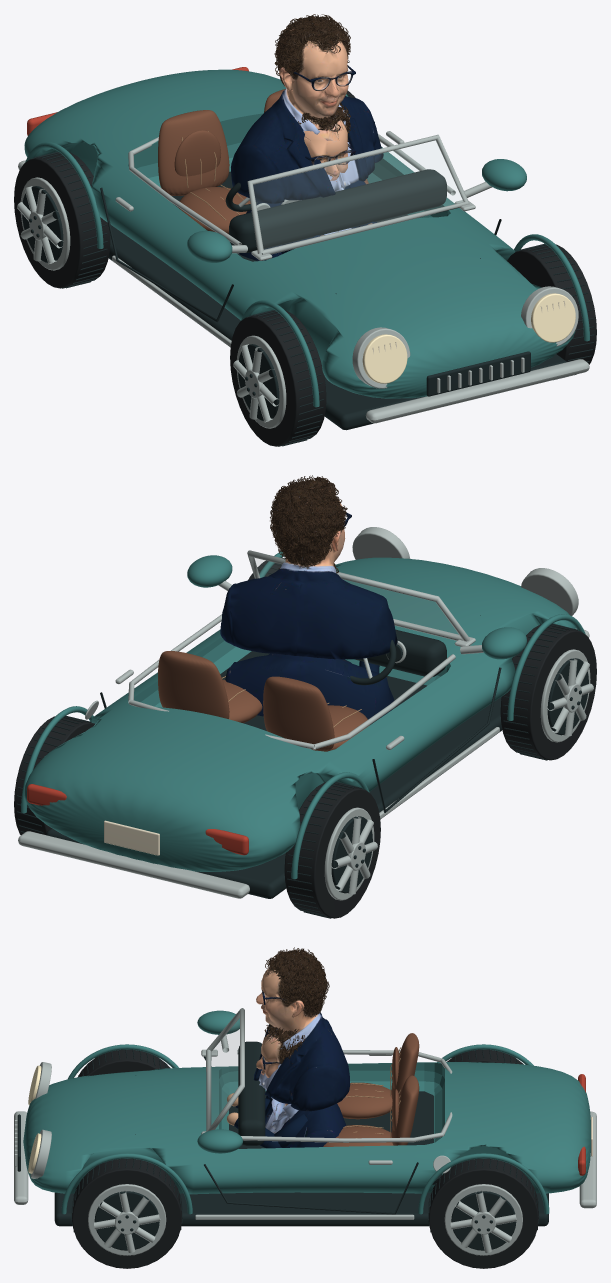
Rendered from dario-trial-kit.glb.
3 views of the same model, one above another, from view 1: azimuth 30°, elevation 25°; view 2: azimuth 150°, elevation 25°; view 3: azimuth 270°, elevation 25° (orthographic). The views are drawn at different scales.
Visible parts, largest first — view 1: Vehicle / Coupe paint, Vehicle / Charcoal, dario / portrait sculpture, Windscreen, Vehicle / Satin aluminium, Vehicle / Saddle leather, Road tire.001, Road tire, Vehicle / Warm headlight, Road tire.003, dario / driving sculpture, Wheel_FL / Satin aluminium (+4 smaller); view 2: Vehicle / Coupe paint, dario / portrait sculpture, Vehicle / Satin aluminium, Vehicle / Saddle leather, Vehicle / Charcoal, Road tire, Road tire.001, dario / driving sculpture, Wheel_RL / Satin aluminium, Wheel_FL / Satin aluminium, Road tire.002, Windscreen (+4 smaller); view 3: Vehicle / Coupe paint, Vehicle / Charcoal, dario / portrait sculpture, Vehicle / Satin aluminium, Road tire.003, Road tire.002, Vehicle / Saddle leather, dario / driving sculpture, Wheel_FR / Satin aluminium, Wheel_RR / Satin aluminium, Windscreen, Wheel_FR / Charcoal (+5 smaller).
Boxes of the visible parts, <box> form: Vehicle / Coupe paint: <box>24,69,589,407</box>; Vehicle / Charcoal: <box>100,121,566,430</box>; dario / portrait sculpture: <box>231,14,383,203</box>; Windscreen: <box>254,141,463,248</box>; Vehicle / Satin aluminium: <box>18,131,589,423</box>; Vehicle / Saddle leather: <box>158,89,368,234</box>; Road tire.001: <box>230,310,326,446</box>; Road tire: <box>14,152,110,288</box>; Vehicle / Warm headlight: <box>362,293,575,383</box>; Road tire.003: <box>507,244,596,364</box>; dario / driving sculpture: <box>231,102,365,260</box>; Wheel_FL / Satin aluminium: <box>233,335,286,428</box>; Vehicle / Coupe paint: <box>21,551,585,879</box>; dario / portrait sculpture: <box>220,475,397,659</box>; Vehicle / Satin aluminium: <box>18,527,589,898</box>; Vehicle / Saddle leather: <box>158,651,369,751</box>; Vehicle / Charcoal: <box>46,615,502,898</box>; Road tire: <box>284,782,380,918</box>; Road tire.001: <box>500,624,596,760</box>; dario / driving sculpture: <box>225,563,394,719</box>; Wheel_RL / Satin aluminium: <box>324,807,377,900</box>; Wheel_FL / Satin aluminium: <box>540,649,593,742</box>; Road tire.002: <box>14,716,94,835</box>; Windscreen: <box>254,558,458,635</box>; Vehicle / Coupe paint: <box>23,1010,590,1214</box>; Vehicle / Charcoal: <box>17,1041,548,1226</box>; dario / portrait sculpture: <box>253,947,350,1111</box>; Vehicle / Satin aluminium: <box>14,1008,596,1219</box>; Road tire.003: <box>72,1158,182,1268</box>; Road tire.002: <box>428,1158,538,1268</box>; Vehicle / Saddle leather: <box>323,1033,419,1146</box>; dario / driving sculpture: <box>256,1024,346,1147</box>; Wheel_FR / Satin aluminium: <box>88,1184,166,1255</box>; Wheel_RR / Satin aluminium: <box>444,1184,522,1255</box>; Windscreen: <box>210,1016,239,1125</box>; Wheel_FR / Charcoal: <box>71,1158,182,1250</box>.
Bounding box in the file's own units: 2.2 × 1.99 × 4.07.
13 materials, 1 textured.
